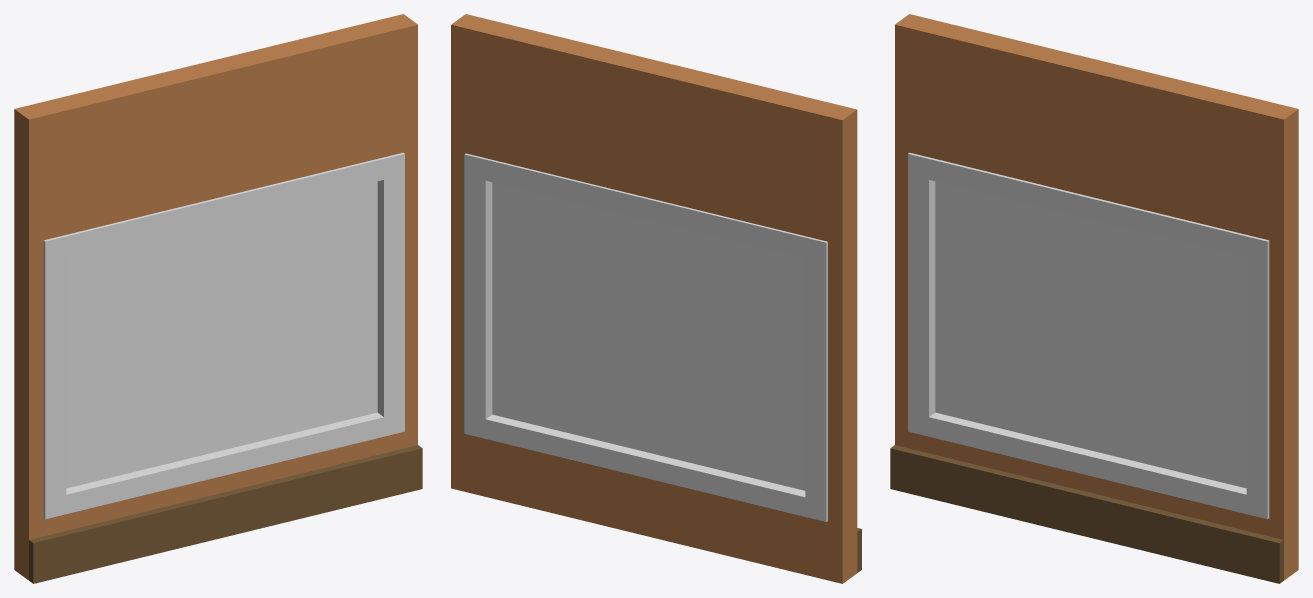
File: C_Wall_Window_Medium.fbx
3 renders of one model, left to right at view 1: azimuth 30°, elevation 25°; view 2: azimuth 150°, elevation 25°; view 3: azimuth 330°, elevation 25°, orthographic.
Parts seen in each view (by area): view 1: C_Wall_Window_Medium; view 2: C_Wall_Window_Medium; view 3: C_Wall_Window_Medium.
Boxes of the visible parts, x1,y1,x2,y2 form: C_Wall_Window_Medium: (14,14,422,583); C_Wall_Window_Medium: (451,14,861,583); C_Wall_Window_Medium: (890,14,1298,583).
Bounding box in the file's own units: 2000 × 183 × 2264.
